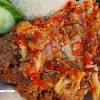ayam_geprek: (4, 9, 99, 97)
